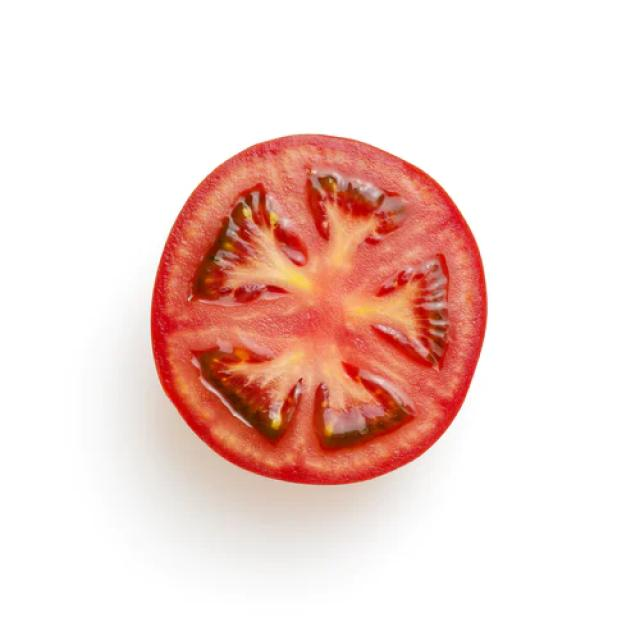Tomato: (150, 118, 498, 502)
